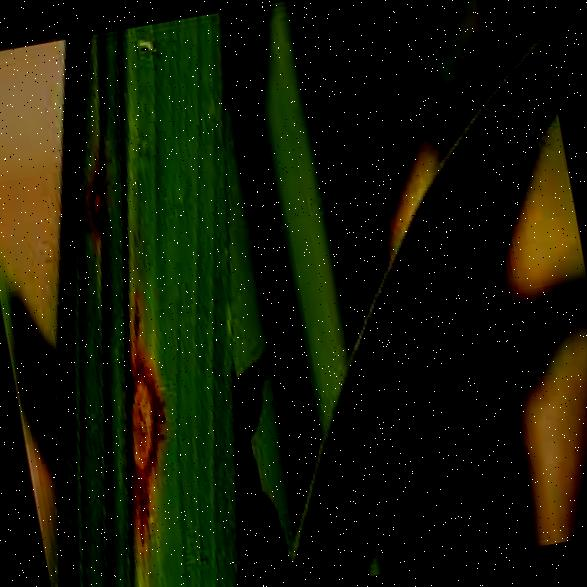Leaf_smut: (74, 300, 188, 547), (63, 126, 115, 242)
